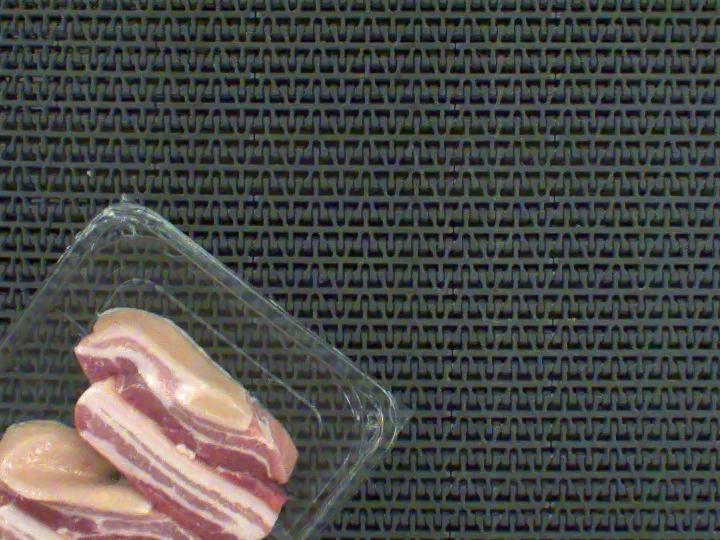twisted-meat: (72, 315, 282, 417), (0, 433, 191, 540)
